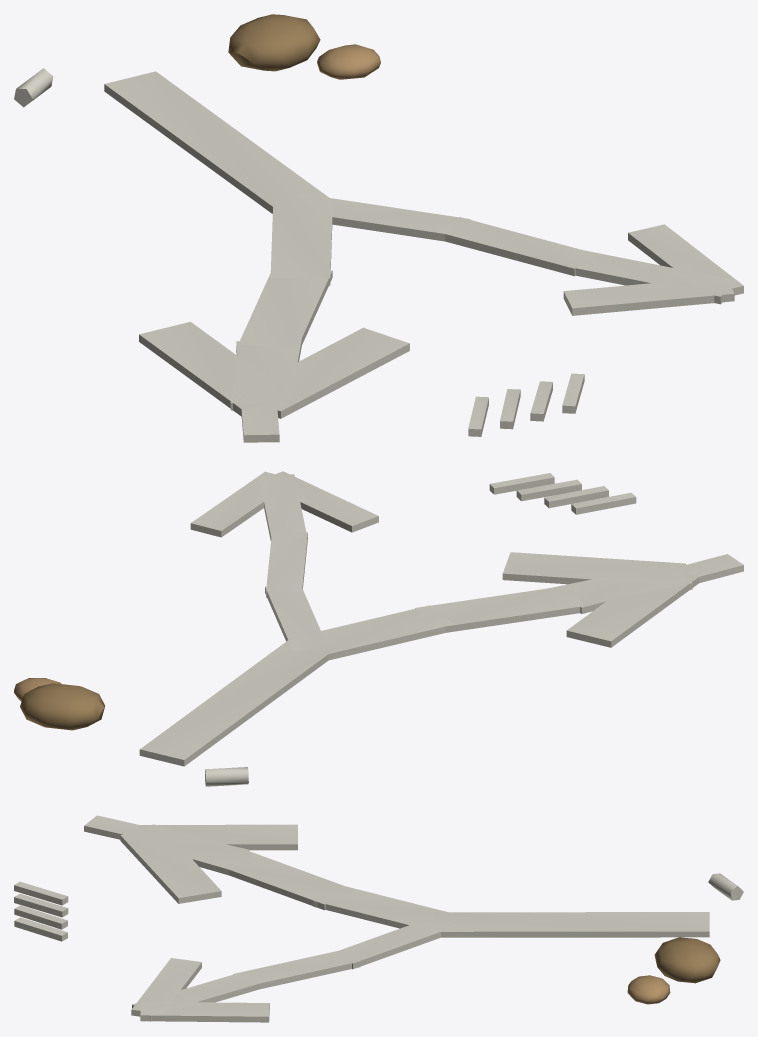
Rendered from chalk_turn_b_lod2.glb.
The picture shows the model from 3 angles, top to bottom: view 1: azimuth 30°, elevation 25°; view 2: azimuth 150°, elevation 25°; view 3: azimuth 270°, elevation 25°; orthographic projection. The views are drawn at different scales.
Parts seen in each view (by area): view 1: Surface.001; view 2: Surface.001; view 3: Surface.001.
Part boxes in pixels (<box>): Surface.001: <box>14,14,743,442</box>; Surface.001: <box>14,471,743,786</box>; Surface.001: <box>14,815,743,1022</box>.
Size of the model in its own units: 3.7 by 0.3164 by 5.68.
